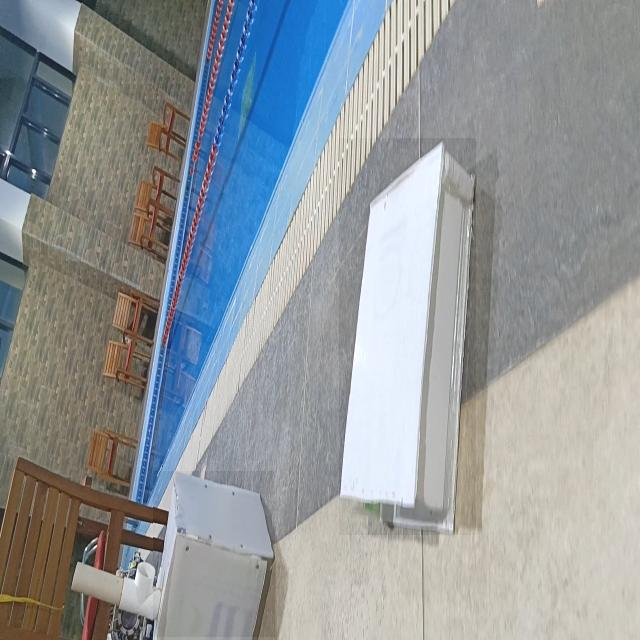Cube: (153, 472, 275, 638)
Cuboid: (339, 138, 476, 535)
